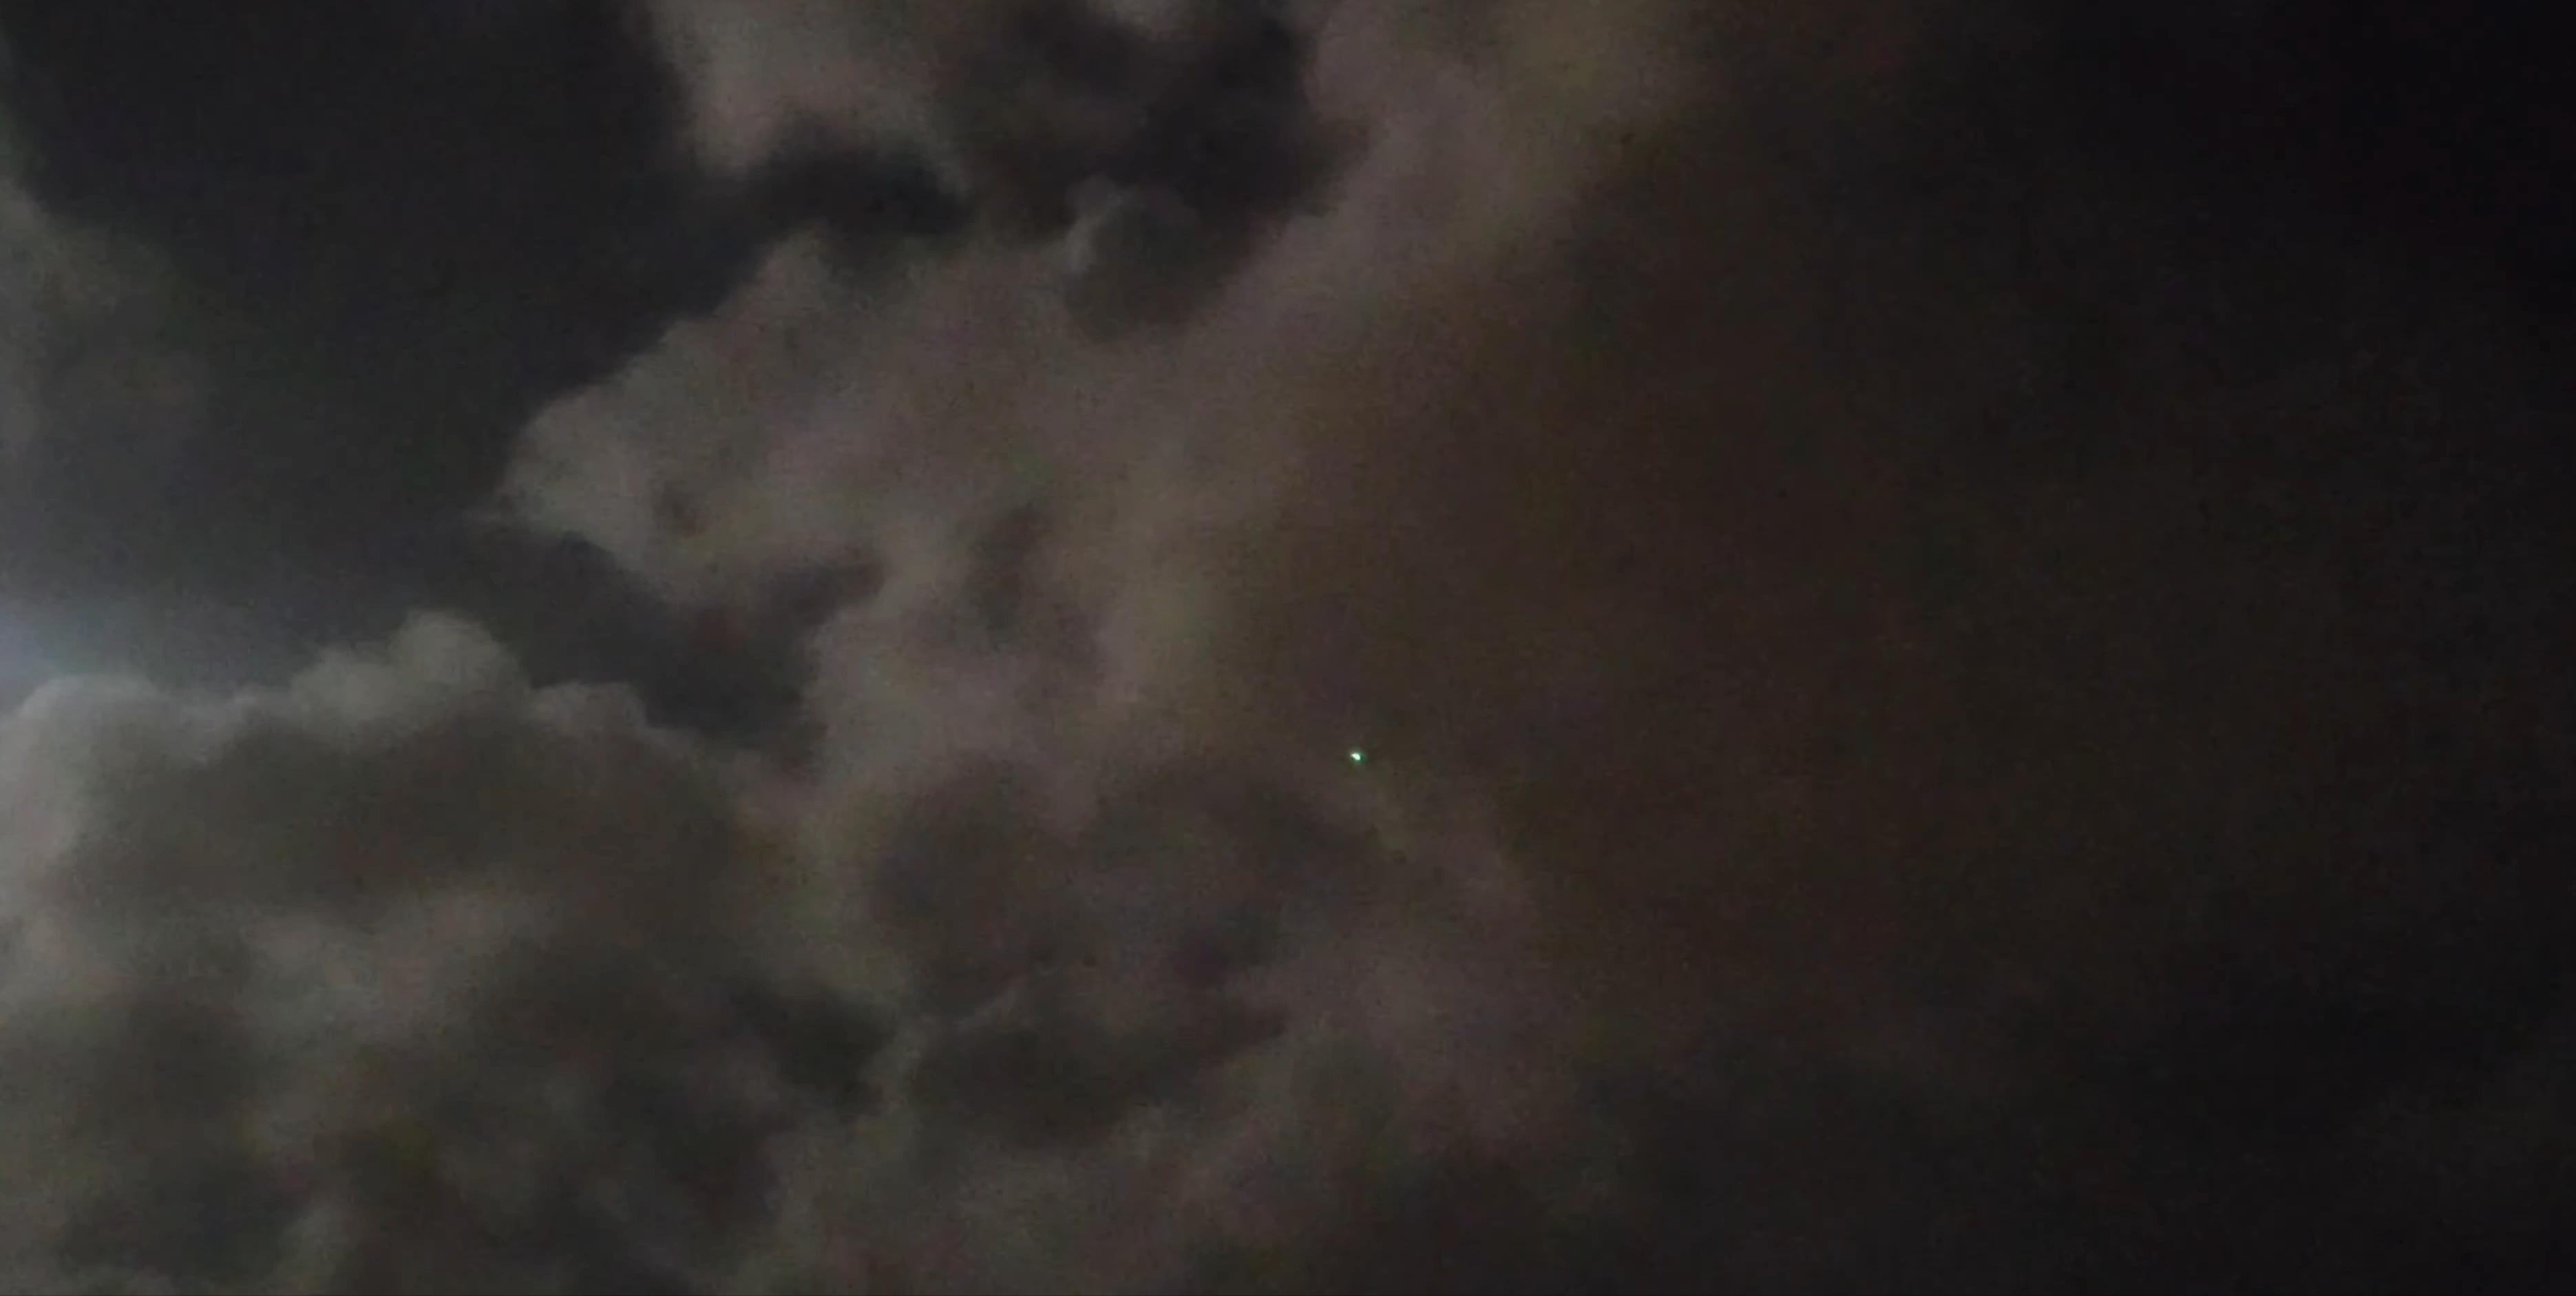Plane: (1325, 732, 1388, 787)
